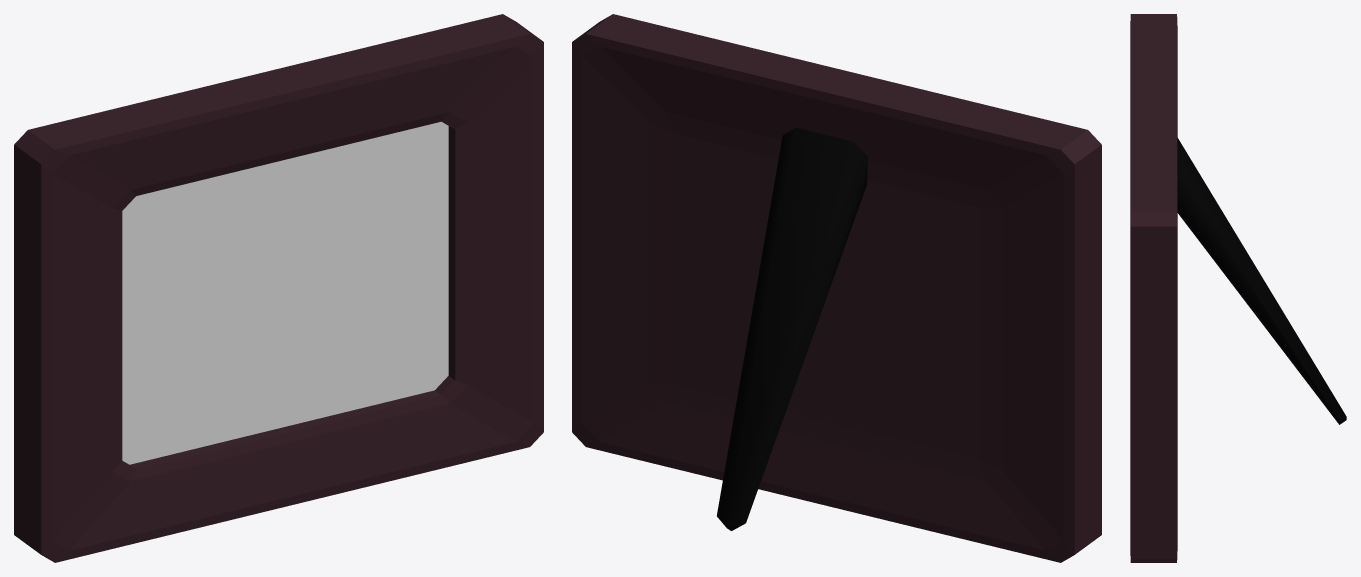
File: photo_frame.glb
3 renders of one model, left to right at view 1: azimuth 30°, elevation 25°; view 2: azimuth 150°, elevation 25°; view 3: azimuth 270°, elevation 25°, orthographic. The views are drawn at different scales.
Parts seen in each view (by area): view 1: photo_frame, photo; view 2: photo_frame; view 3: photo_frame.
Boxes of the visible parts, x1,y1,x2,y2 form: photo_frame: (14, 14, 543, 562); photo: (122, 121, 448, 464); photo_frame: (572, 14, 1101, 562); photo_frame: (1130, 14, 1346, 562).
Size of the model in its own units: 0.1702 by 0.1337 by 0.0746.
